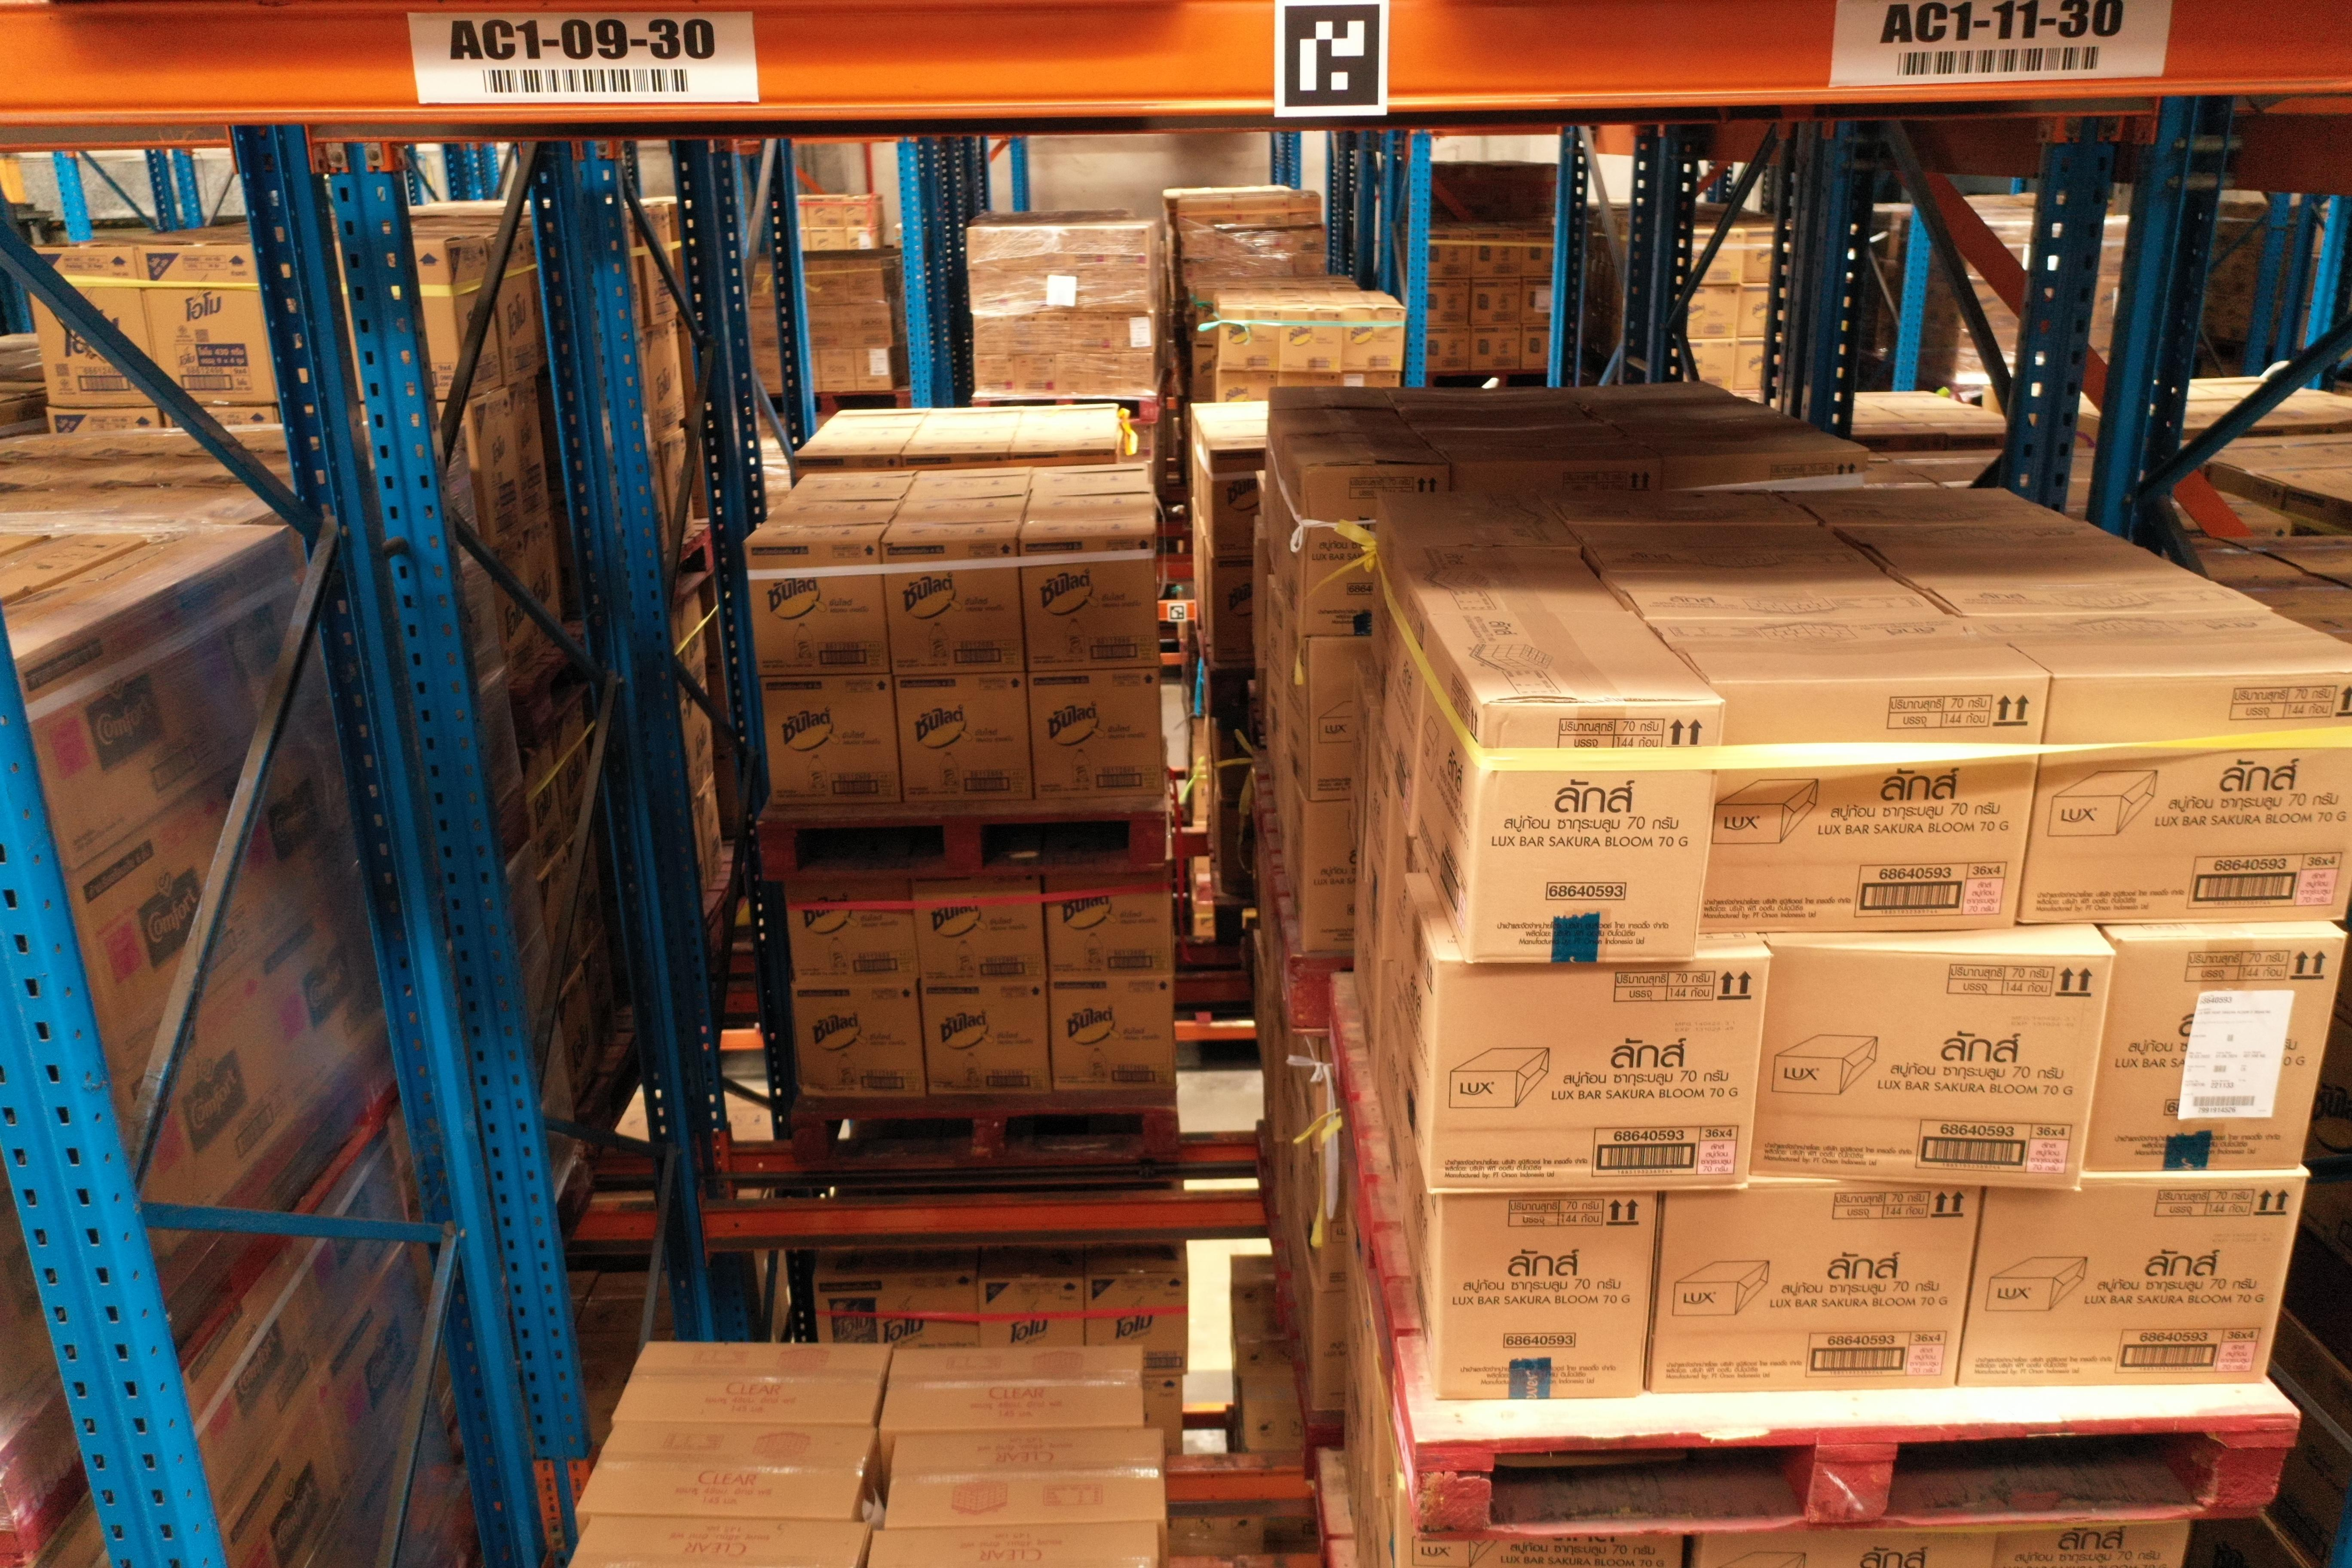-: (1755, 945, 2116, 1195), (1703, 675, 2047, 933), (2016, 667, 2352, 926), (1426, 955, 1773, 1193), (1955, 1174, 2306, 1389), (1650, 1181, 1983, 1395), (1465, 696, 1727, 964), (2089, 940, 2350, 1172), (1433, 1192, 1661, 1398), (1396, 1489, 1682, 1568), (1697, 1528, 1998, 1568), (1998, 1521, 2193, 1568)
2: (1018, 532, 1164, 675), (745, 539, 896, 675), (759, 675, 906, 812), (882, 539, 1025, 675), (1027, 668, 1169, 800), (896, 675, 1032, 808), (1046, 976, 1176, 1097), (796, 985, 927, 1099), (910, 884, 1048, 989), (924, 989, 1052, 1099), (789, 884, 917, 985), (1045, 884, 1176, 980)
